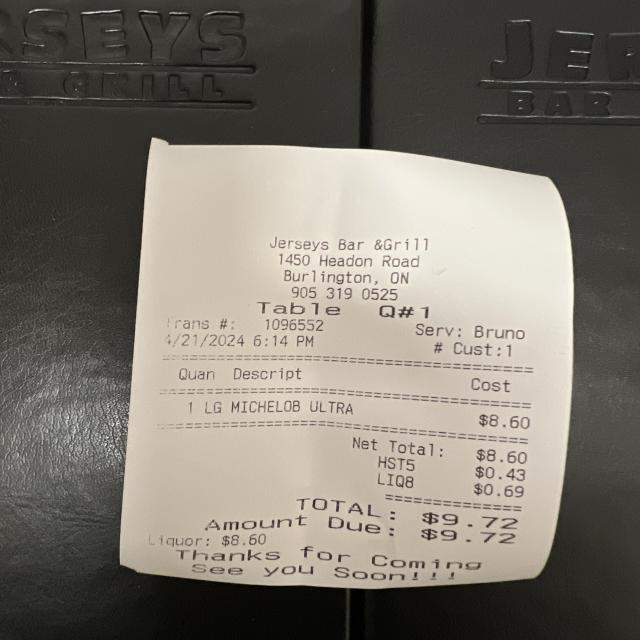item: (200, 396, 539, 432)
store_name: (263, 230, 439, 255)
total_amount: (290, 494, 524, 535)
transaction_date: (154, 328, 251, 355)
